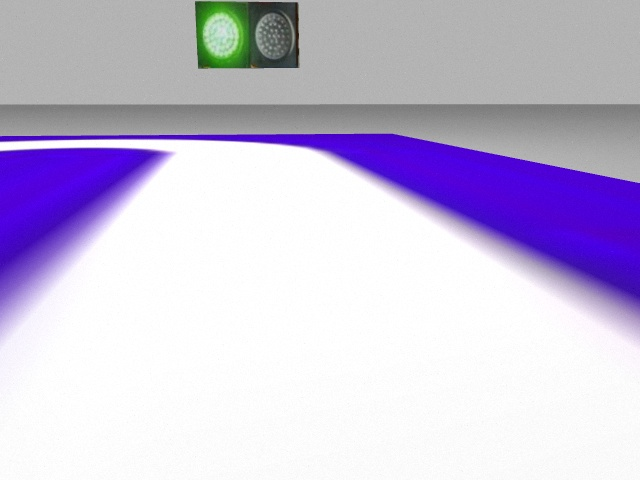green: (196, 1, 250, 68)
